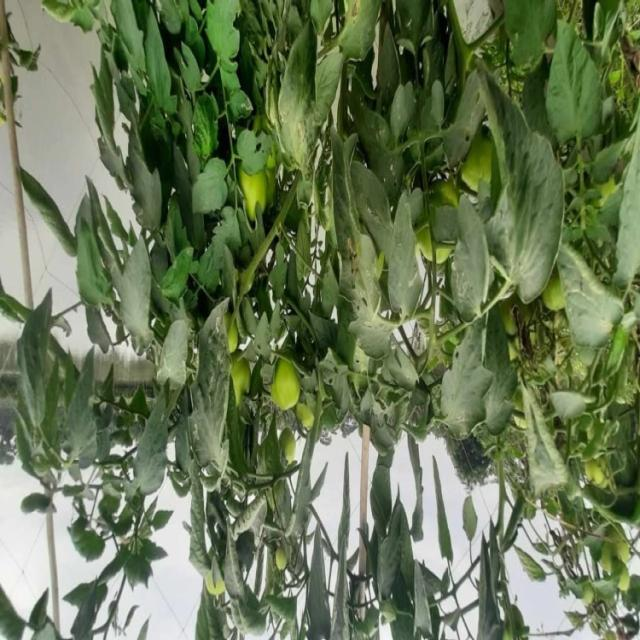tomato: (447, 128, 511, 202), (266, 353, 320, 429), (216, 348, 259, 415), (527, 268, 577, 324), (235, 169, 281, 224), (203, 563, 236, 611), (260, 541, 301, 579)
